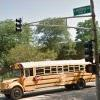Bus: (14, 55, 95, 96)
